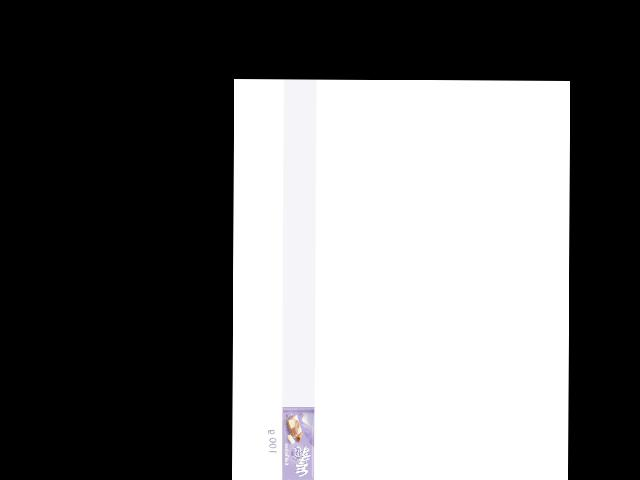chocolate: (280, 406, 314, 480)
